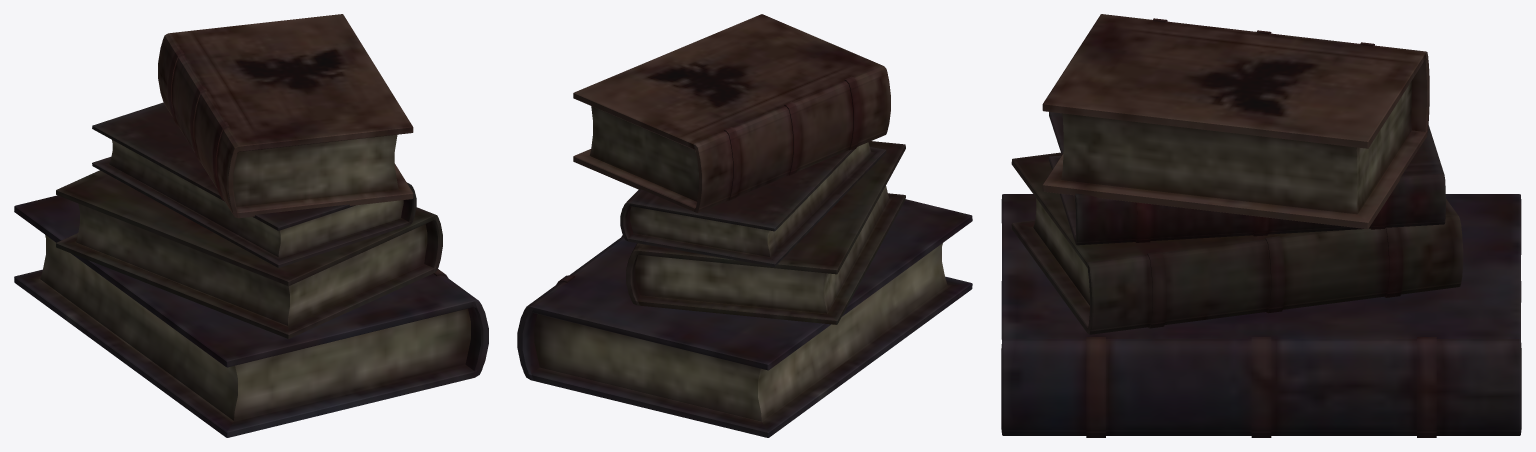
The model's file is books.glb.
3 renders of one model, left to right at view 1: azimuth 30°, elevation 25°; view 2: azimuth 150°, elevation 25°; view 3: azimuth 270°, elevation 25°, orthographic. The views are drawn at different scales.
Visible parts, largest first — view 1: book1_low1; view 2: book1_low1; view 3: book1_low1.
Boxes of the visible parts, <box> form: book1_low1: <box>14,14,488,437</box>; book1_low1: <box>517,14,972,437</box>; book1_low1: <box>1001,14,1521,437</box>.
Bounding box in the file's own units: 31.39 × 26.96 × 41.25.
1 material, 1 textured.
